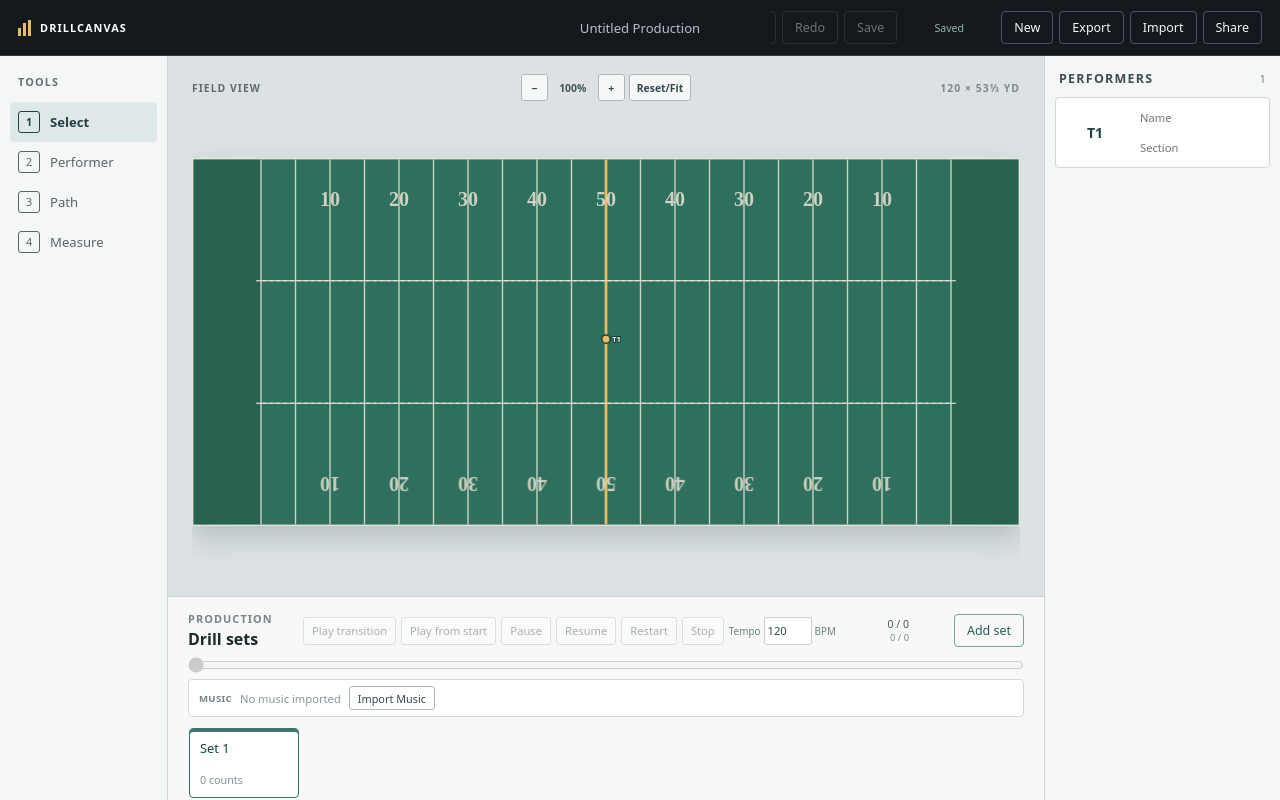
Test: project persistence › explicit Save updates the baseline used by New
Replace the text in the field named "Production name" with "Saved Work" at (640, 28), box x1=510 y1=12 x2=770 y2=42
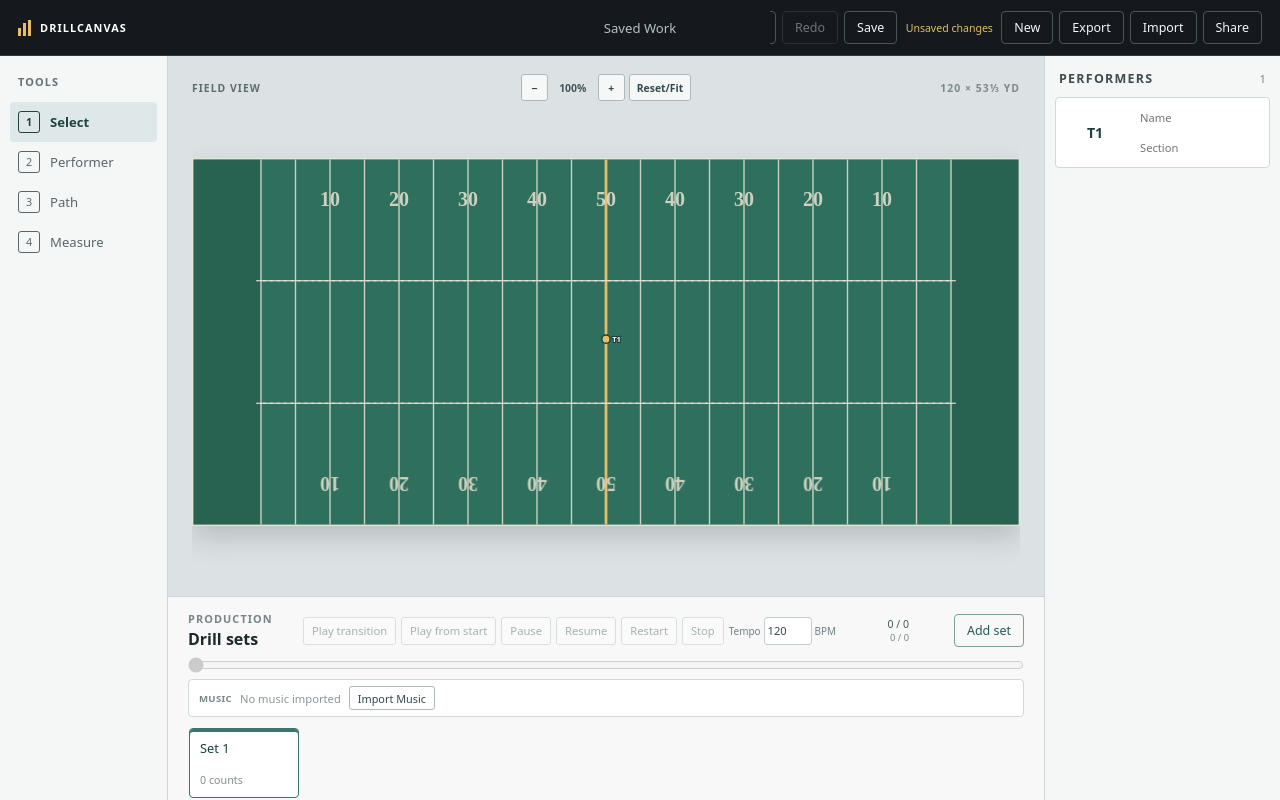
Click the button "Save" at (871, 28), box x1=844 y1=11 x2=897 y2=44
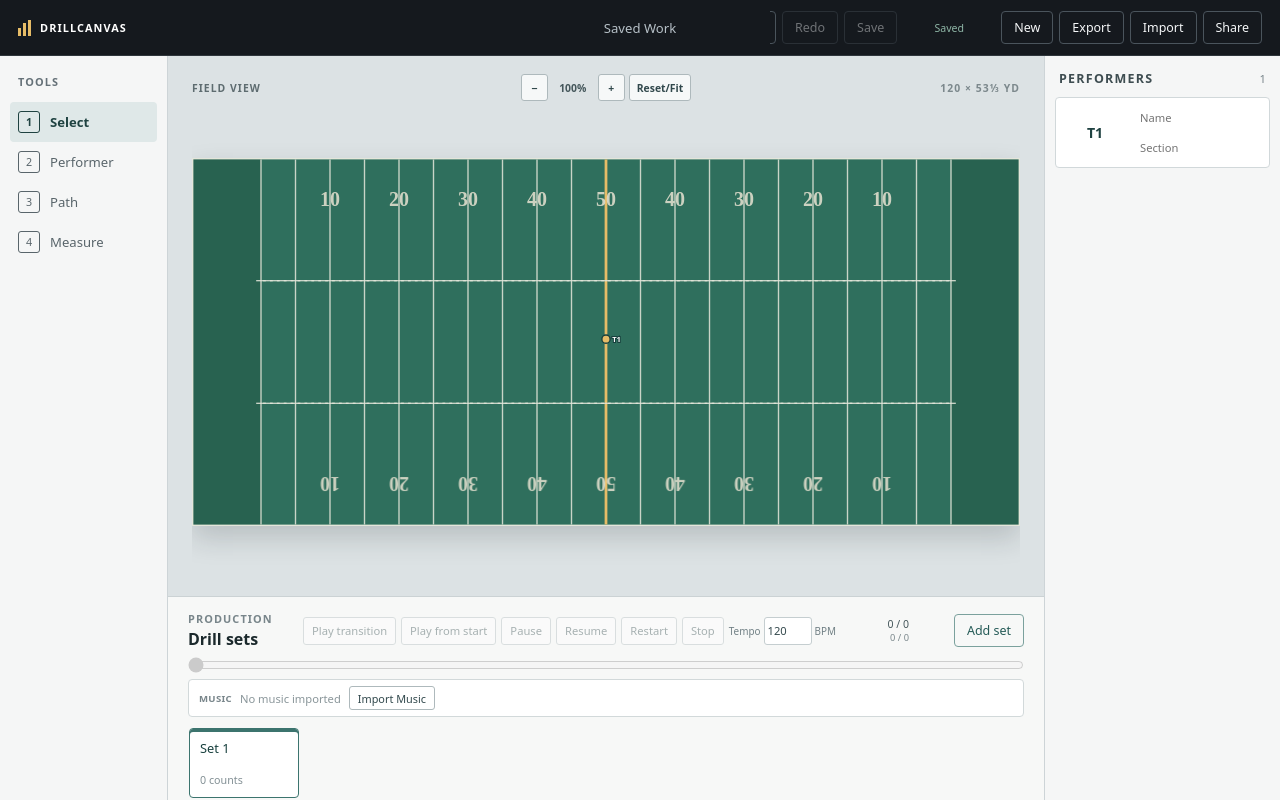
Click the button "New" at (1027, 28), box x1=1001 y1=11 x2=1053 y2=44
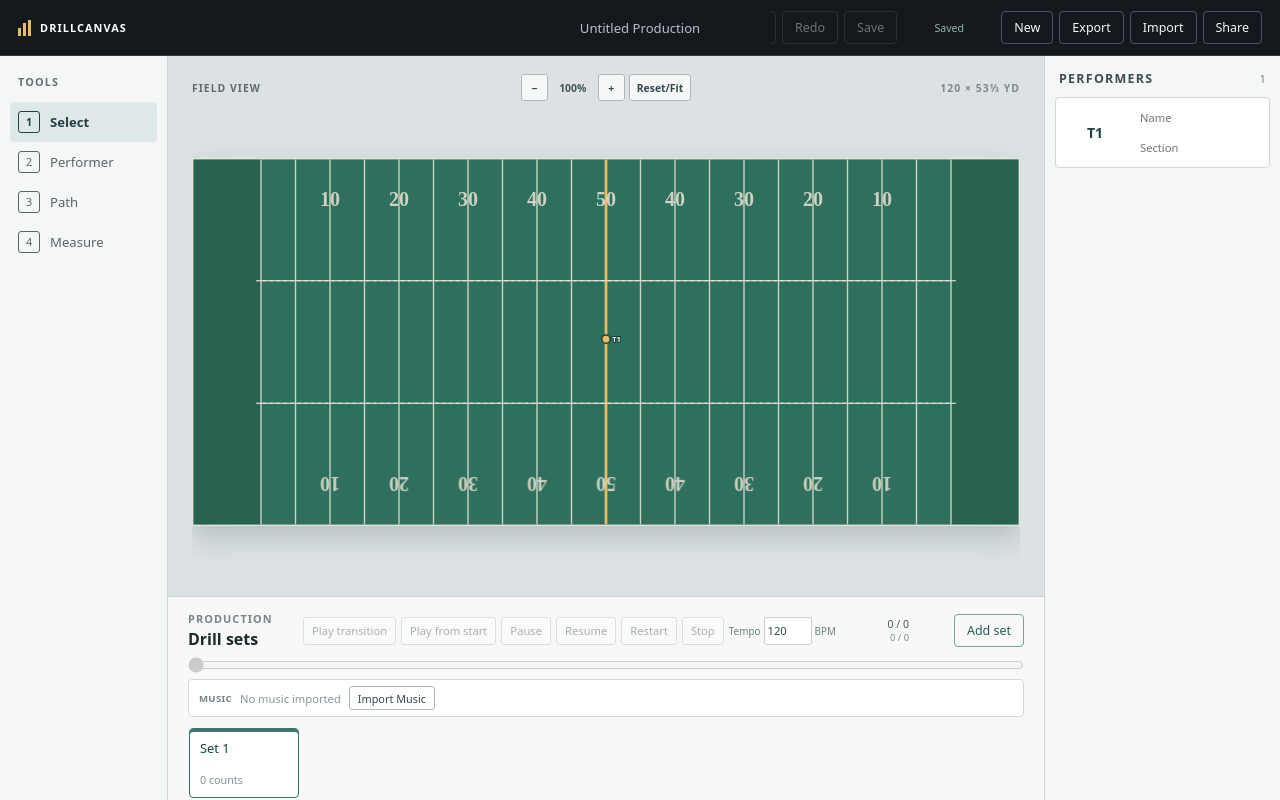
Now the field named "Production name" holds "Untitled Production", box x1=510 y1=12 x2=770 y2=42
